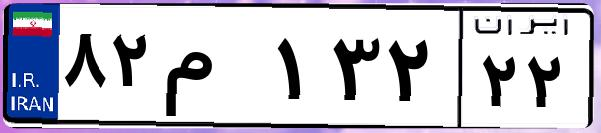1: (270, 28, 330, 110)
2: (385, 28, 445, 110), (475, 38, 525, 113), (525, 38, 570, 115), (110, 28, 158, 98)
3: (330, 28, 385, 110)
8: (57, 26, 110, 100)
م: (158, 20, 270, 120)
